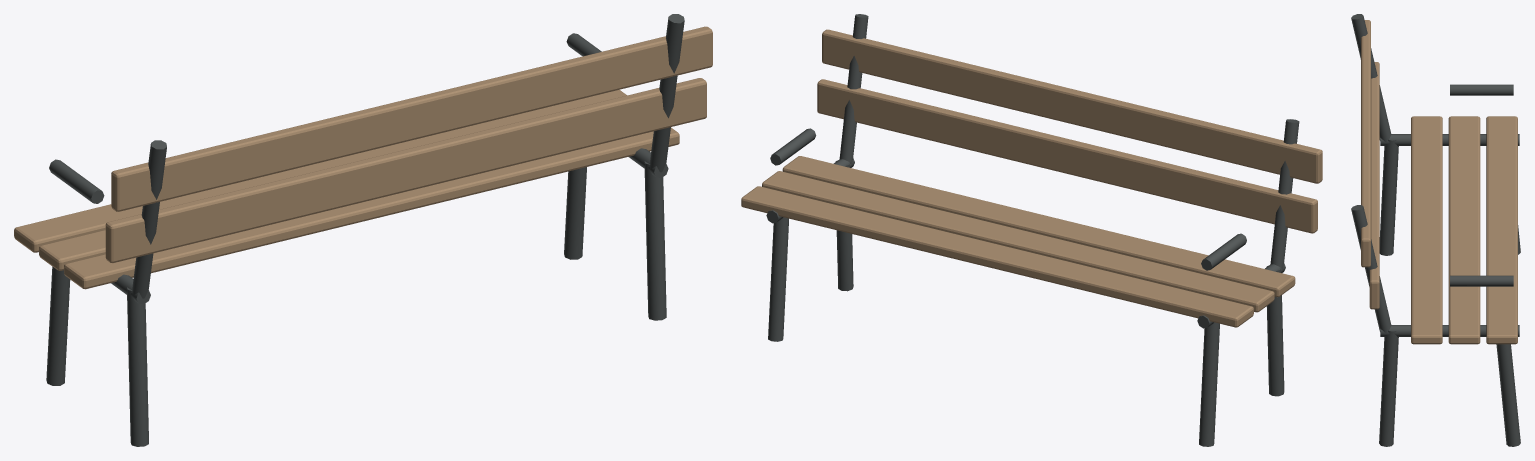
Rendered from bench.glb.
The picture shows the model from 3 angles, left to right: view 1: azimuth 30°, elevation 25°; view 2: azimuth 150°, elevation 25°; view 3: azimuth 270°, elevation 25°; orthographic projection. The views are drawn at different scales.
Visible parts, largest first — view 1: Bench.001; view 2: Bench.001; view 3: Bench.001.
Boxes of the visible parts, bbox=[...] form: Bench.001: bbox=[14, 14, 712, 446]; Bench.001: bbox=[741, 14, 1322, 446]; Bench.001: bbox=[1351, 14, 1520, 446].
Size of the model in its own units: 1.8 by 0.9068 by 0.5864.
